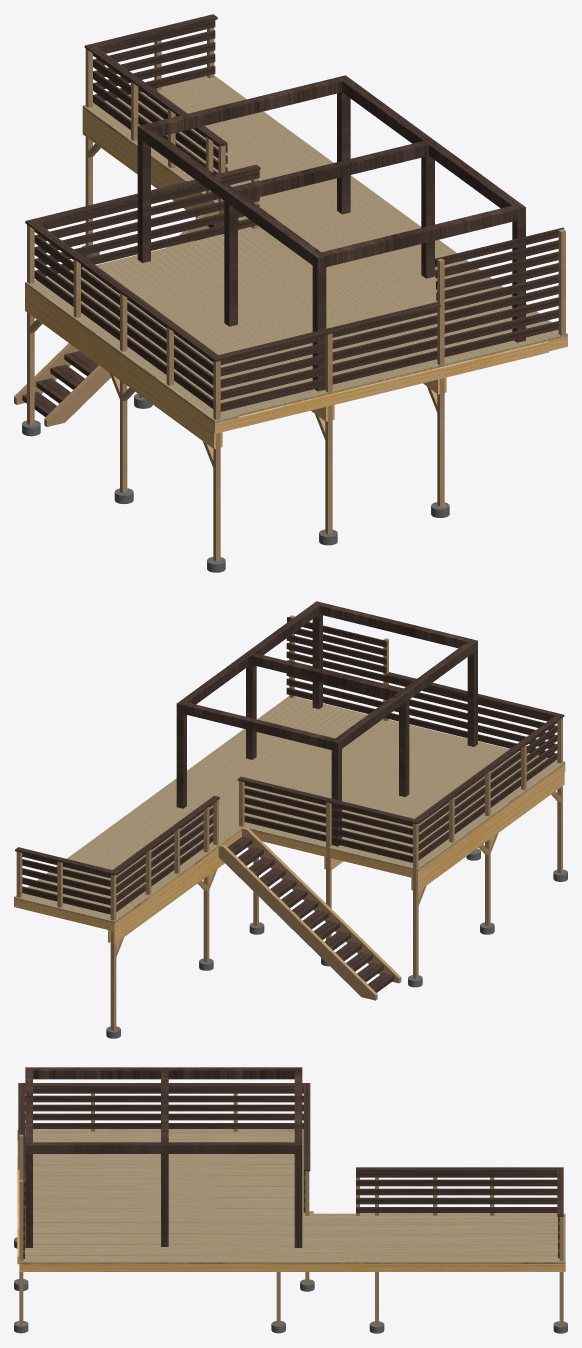
3 views of the same model, one above another, from view 1: azimuth 30°, elevation 25°; view 2: azimuth 150°, elevation 25°; view 3: azimuth 270°, elevation 25° (orthographic). The views are drawn at different scales.
Parts seen in each view (by area): view 1: Timber (×46), Deck_Floor (×40), Timber_Floor (×6); view 2: Timber (×45), Deck_Floor (×41), Timber_Floor (×6); view 3: Deck_Floor (×45), Timber (×20), Timber_Floor.
Part boxes in pixels (x1,y1,x2,y2): Timber (×46): (14, 14, 565, 561); Deck_Floor (×40): (25, 75, 567, 423); Timber_Floor (×6): (25, 108, 548, 448); Timber (×45): (22, 601, 564, 1030); Deck_Floor (×41): (14, 696, 565, 923); Timber_Floor (×6): (15, 764, 565, 943); Deck_Floor (×45): (17, 1129, 565, 1263); Timber (×20): (18, 1067, 563, 1324); Timber_Floor: (19, 1264, 565, 1271).
Bounding box in the file's own units: 6.83 × 5.16 × 11.89.
5 materials, 4 textured.
